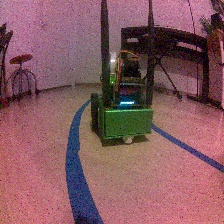rob: (89, 57, 154, 144)
